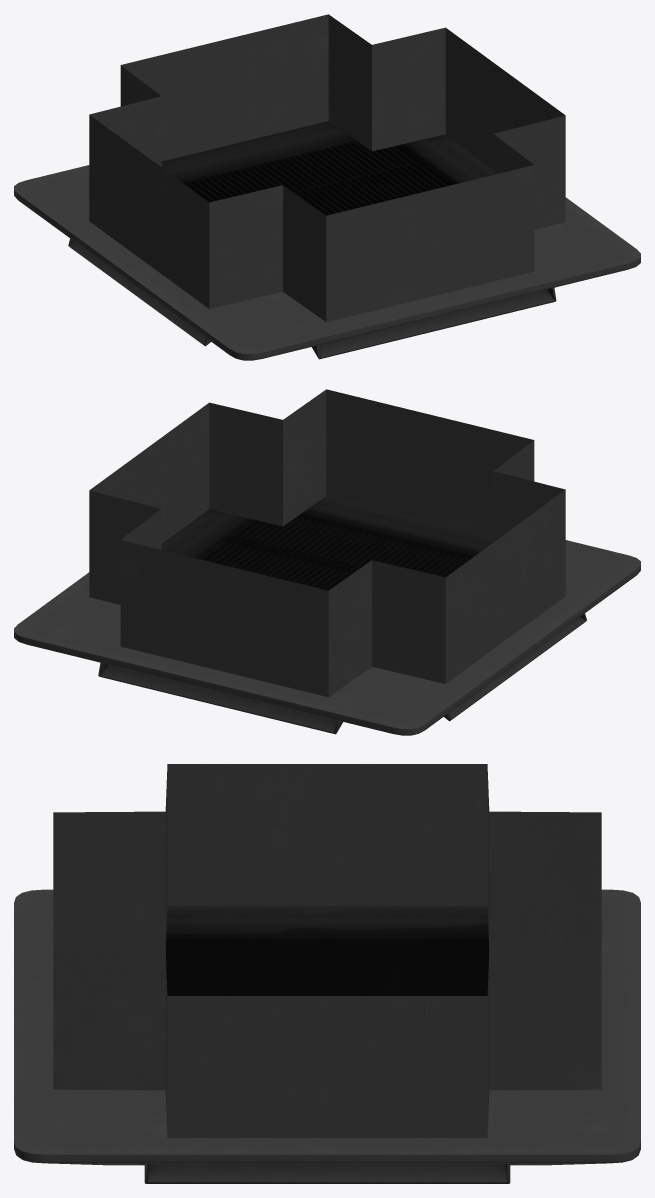
Rendered from SM_AirConditioner_Ceiling_Extruded.fbx.
3 renders of one model, top to bottom at view 1: azimuth 30°, elevation 25°; view 2: azimuth 150°, elevation 25°; view 3: azimuth 270°, elevation 25°, orthographic. The views are drawn at different scales.
Visible parts, largest first — view 1: SM_AirConditioner_Ceiling_Extruded_LOD0; view 2: SM_AirConditioner_Ceiling_Extruded_LOD0; view 3: SM_AirConditioner_Ceiling_Extruded_LOD0.
Boxes of the visible parts, x1,y1,x2,y2 form: SM_AirConditioner_Ceiling_Extruded_LOD0: [14, 14, 640, 360]; SM_AirConditioner_Ceiling_Extruded_LOD0: [14, 389, 640, 735]; SM_AirConditioner_Ceiling_Extruded_LOD0: [14, 764, 640, 1183].
Size of the model in its own units: 100 by 100 by 31.7.
Materials: 1 (1 with a texture image).
